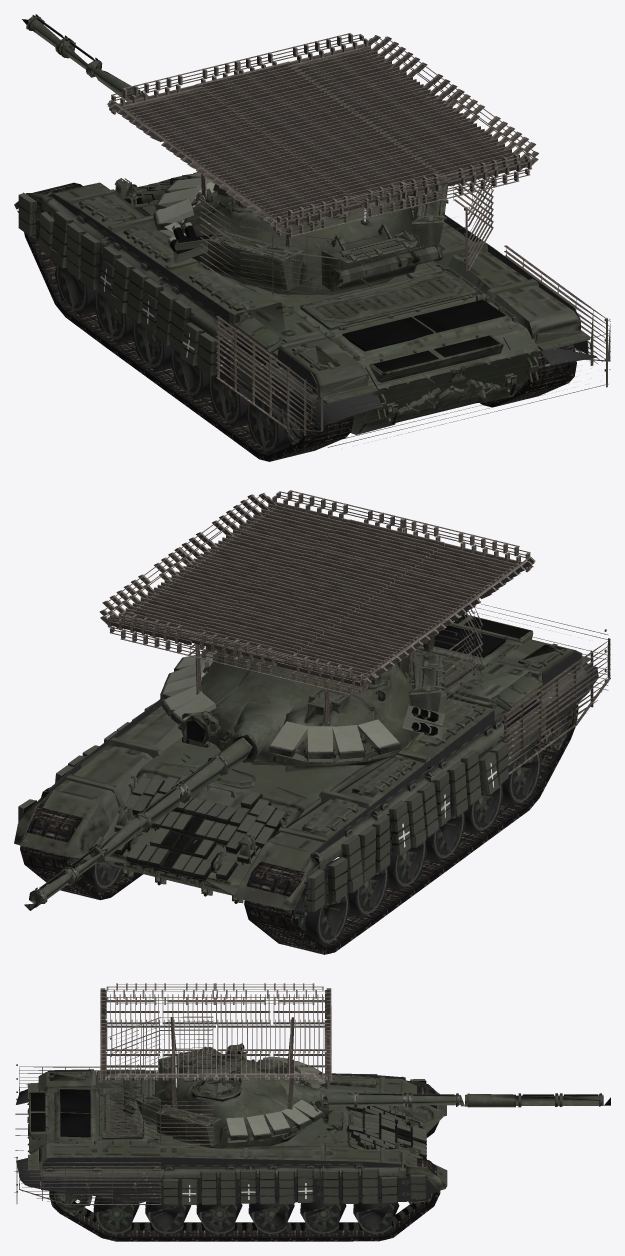
3 renders of one model, top to bottom at view 1: azimuth 30°, elevation 25°; view 2: azimuth 150°, elevation 25°; view 3: azimuth 270°, elevation 25°, orthographic. The views are drawn at different scales.
Visible parts, largest first — view 1: Object_15, Object_3, Object_4, Object_10, Object_17, Object_12, Object_6, Object_5; view 2: Object_15, Object_3, Object_4, Object_10, Object_12, Object_17, Object_6, Object_5; view 3: Object_4, Object_15, Object_3, Object_10, Object_17, Object_12, Object_5, Object_6.
Part boxes in pixels (<box>): Object_15: <box>107,33,610,447</box>; Object_3: <box>14,178,590,434</box>; Object_4: <box>17,172,597,424</box>; Object_10: <box>176,184,448,295</box>; Object_17: <box>37,205,573,454</box>; Object_12: <box>24,182,576,461</box>; Object_6: <box>153,172,414,262</box>; Object_5: <box>22,14,148,101</box>; Object_15: <box>100,490,610,774</box>; Object_3: <box>14,614,590,910</box>; Object_4: <box>18,651,598,912</box>; Object_10: <box>178,635,445,768</box>; Object_12: <box>20,705,578,954</box>; Object_17: <box>69,708,573,945</box>; Object_6: <box>160,650,445,762</box>; Object_5: <box>24,702,294,910</box>; Object_4: <box>16,1069,439,1204</box>; Object_15: <box>14,983,331,1204</box>; Object_3: <box>27,1069,447,1203</box>; Object_10: <box>123,1044,328,1147</box>; Object_17: <box>51,1191,432,1234</box>; Object_12: <box>49,1084,440,1241</box>; Object_5: <box>278,1078,610,1108</box>; Object_6: <box>226,1043,326,1142</box>.
Bounding box in the file's own units: 4.05 × 3.15 × 10.02.
10 materials, 9 textured.
